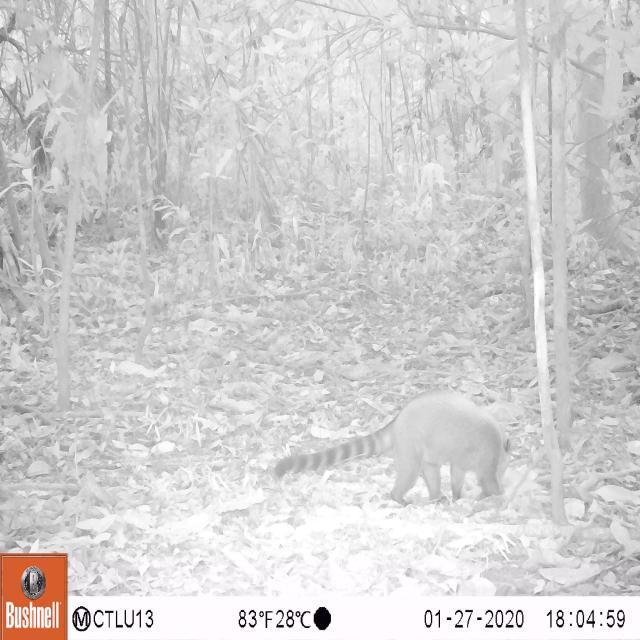South American Coati: (272, 380, 524, 518)
